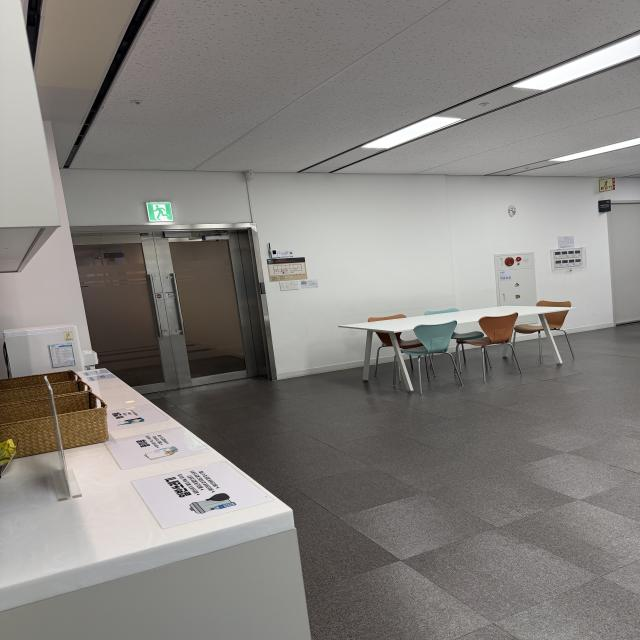rear_door: (73, 225, 262, 392)
